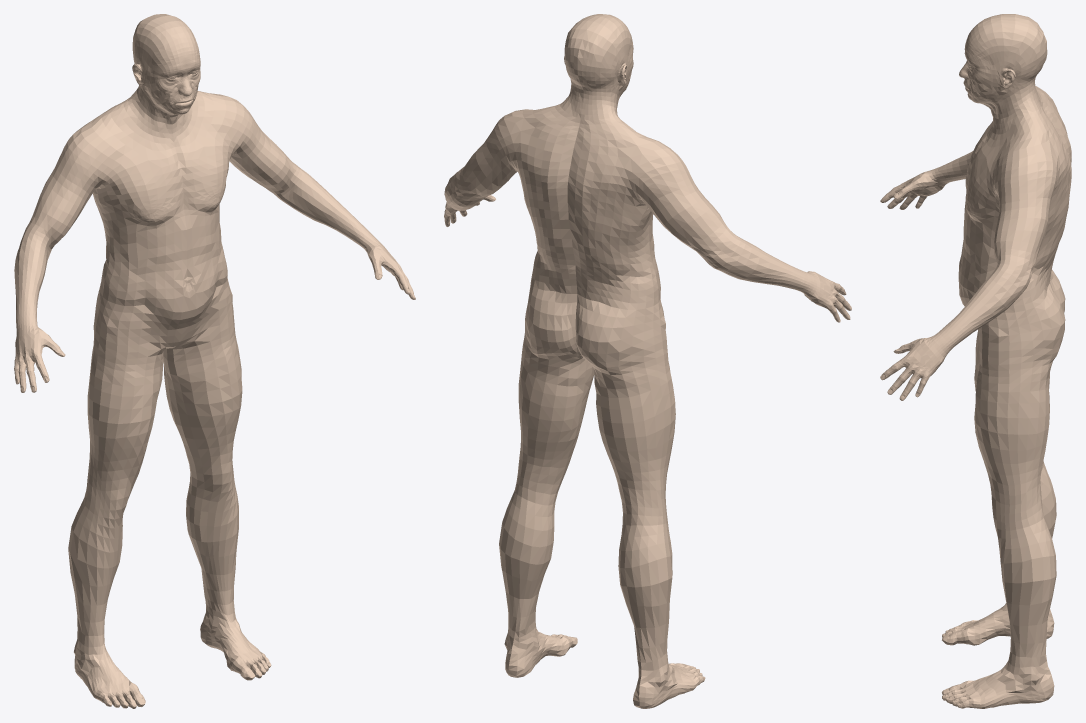
The model's file is male-older-heavy-high.glb.
3 renders of one model, left to right at view 1: azimuth 30°, elevation 25°; view 2: azimuth 150°, elevation 25°; view 3: azimuth 270°, elevation 25°, orthographic.
Visible parts, largest first — view 1: world; view 2: world; view 3: world.
Boxes of the visible parts, <box> form: world: <box>14,14,415,708</box>; world: <box>444,14,851,708</box>; world: <box>880,14,1071,708</box>.
Bounding box in the file's own units: 1.24 × 1.97 × 0.524.
